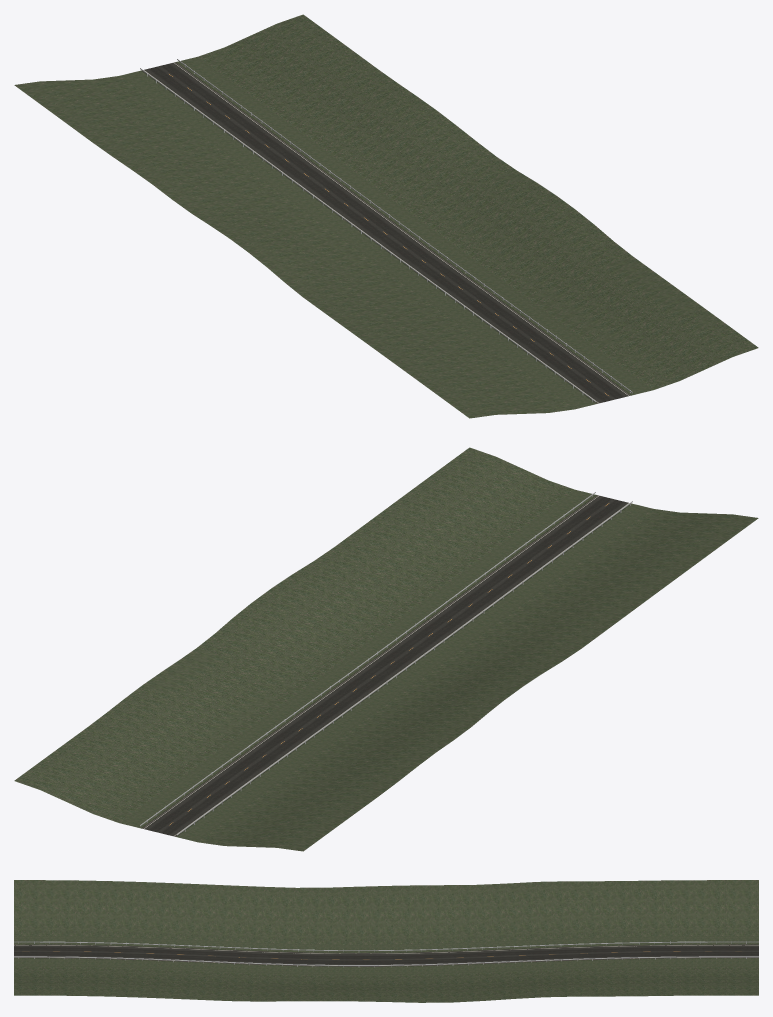
The picture shows the model from 3 angles, top to bottom: view 1: azimuth 30°, elevation 25°; view 2: azimuth 150°, elevation 25°; view 3: azimuth 270°, elevation 25°; orthographic projection. The views are drawn at different scales.
Visible parts, largest first — view 1: Grass, HighWay, GuardRail; view 2: Grass, HighWay, GuardRail; view 3: Grass, HighWay, GuardRail.
Part boxes in pixels (box(x1,y1,x2,y2)): Grass: box(14, 14, 758, 418); HighWay: box(141, 62, 631, 403); GuardRail: box(140, 59, 632, 402); Grass: box(14, 447, 758, 851); HighWay: box(141, 495, 631, 836); GuardRail: box(140, 492, 632, 835); Grass: box(14, 880, 758, 1002); HighWay: box(14, 944, 758, 966); GuardRail: box(14, 941, 758, 967).
Size of what is drawn, in the model's own units: 113 by 8.73 by 300.
